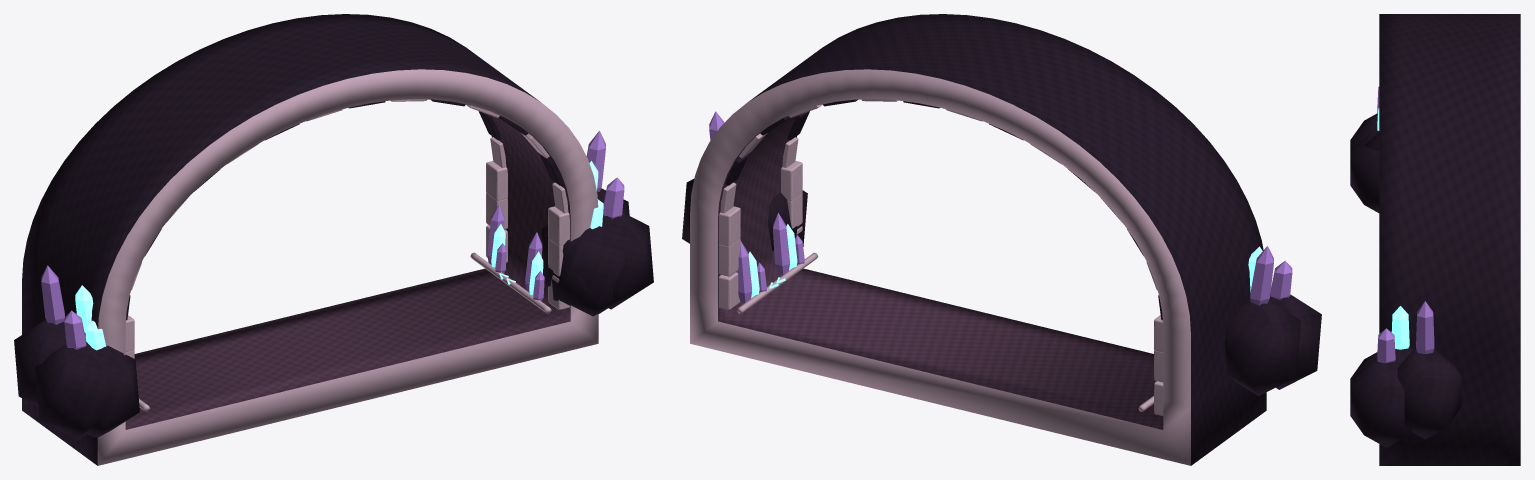
File: portal_entry.glb
3 renders of one model, left to right at view 1: azimuth 30°, elevation 25°; view 2: azimuth 150°, elevation 25°; view 3: azimuth 270°, elevation 25°, orthographic. The views are drawn at different scales.
Visible parts, largest first — view 1: TunnelGeometry; view 2: TunnelGeometry; view 3: TunnelGeometry.
Part boxes in pixels (x1,y1,x2,y2): TunnelGeometry: [14, 14, 653, 465]; TunnelGeometry: [682, 14, 1321, 465]; TunnelGeometry: [1350, 14, 1520, 465].
Bounding box in the file's own units: 18.63 × 9.52 × 4.82.
5 materials, 2 textured.
